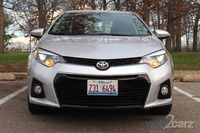car: (26, 10, 175, 116)
